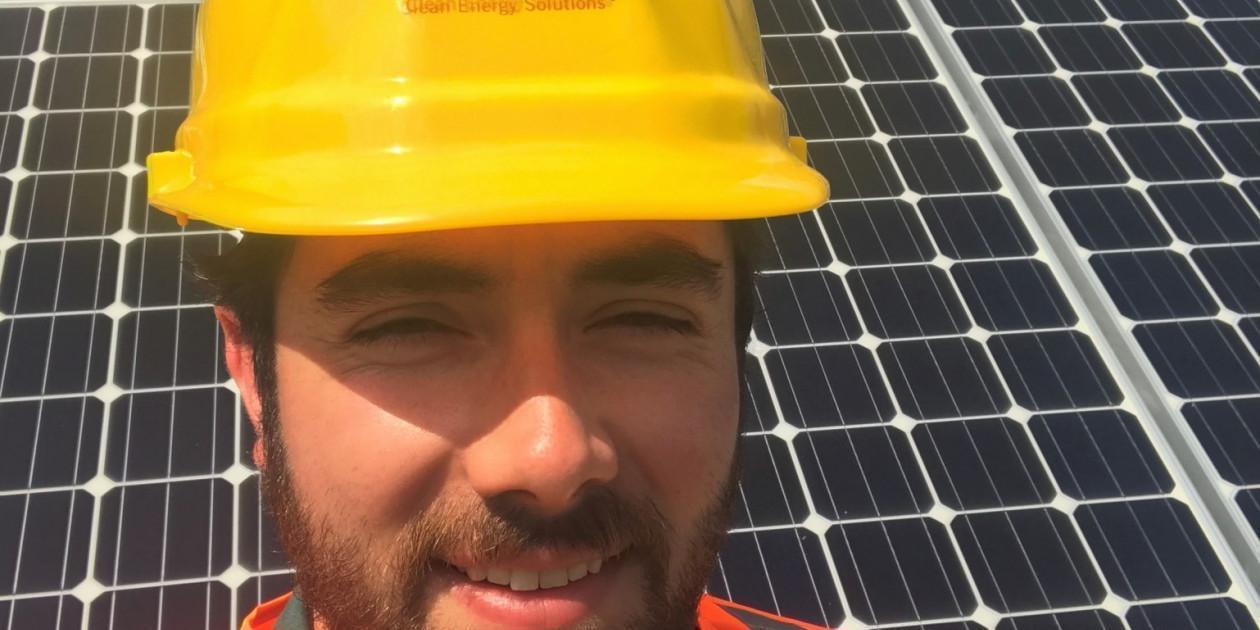helmet: (146, 0, 831, 235)
